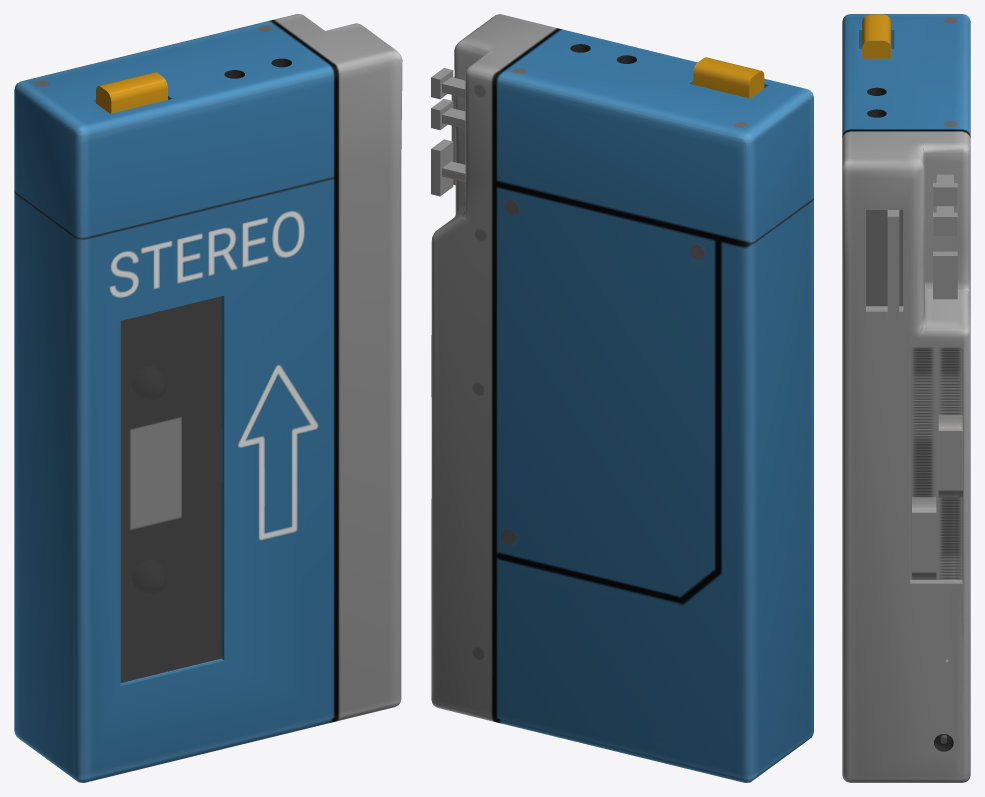
File: obj_walkman_cassete_player_14daac.glb
3 views of the same model, side by side, from view 1: azimuth 30°, elevation 25°; view 2: azimuth 150°, elevation 25°; view 3: azimuth 270°, elevation 25° (orthographic). The views are drawn at different scales.
Parts seen in each view (by area): view 1: obj_walkman_cassete_player_14daac; view 2: obj_walkman_cassete_player_14daac; view 3: obj_walkman_cassete_player_14daac.
Boxes of the visible parts, x1,y1,x2,y2 form: obj_walkman_cassete_player_14daac: [14, 14, 402, 782]; obj_walkman_cassete_player_14daac: [431, 14, 813, 782]; obj_walkman_cassete_player_14daac: [842, 14, 970, 782].
Size of the model in its own units: 0.2631 by 0.5 by 0.091.
1 material, 1 textured.
